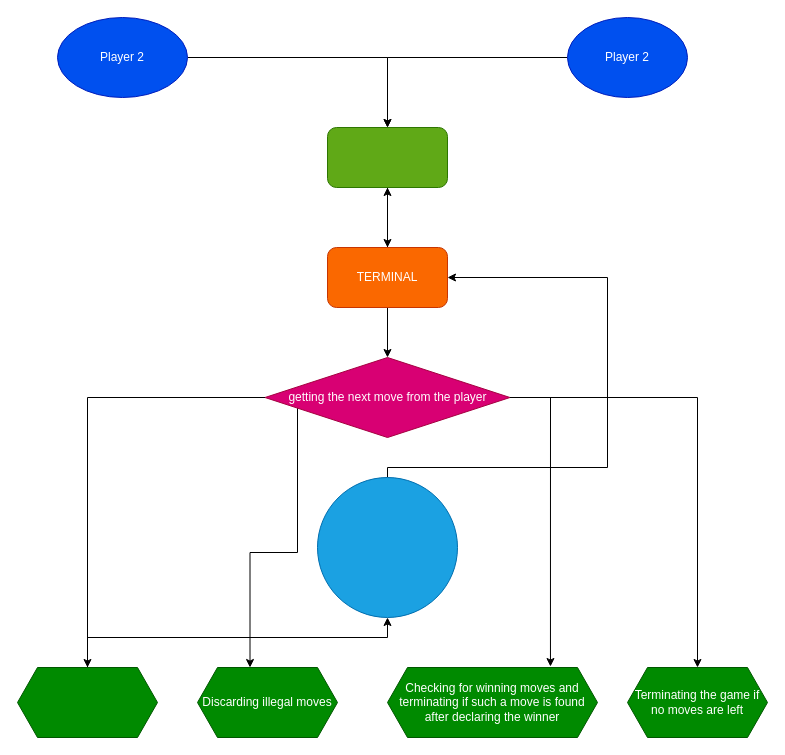
This 785x755 diagram has some shape labels left out. Each missing label, with the centre of its shape:
displaying the current status of the board: [387,547]
Menu: [387,157]
Updating user moves: [87,702]
